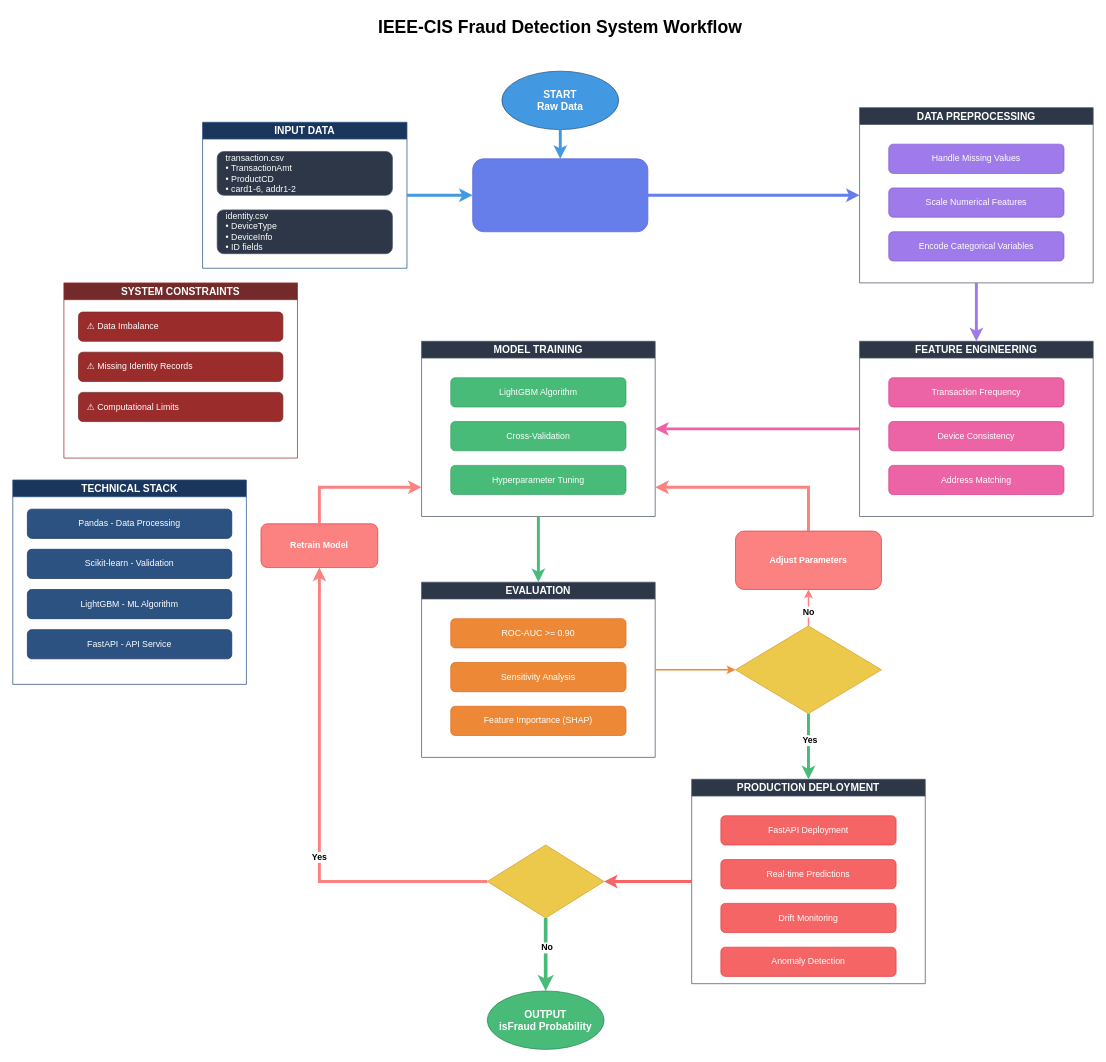
This 1106x1062 diagram has some shape labels left out. Each missing label, with the centre of its shape:
Data Drift Detected?: the point at 545,881
DATA INGESTION MODULE: the point at 560,195
Performance Acceptable?: the point at 808,669
